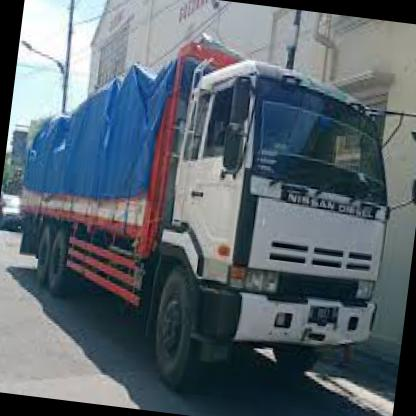truck: (147, 51, 409, 408)
